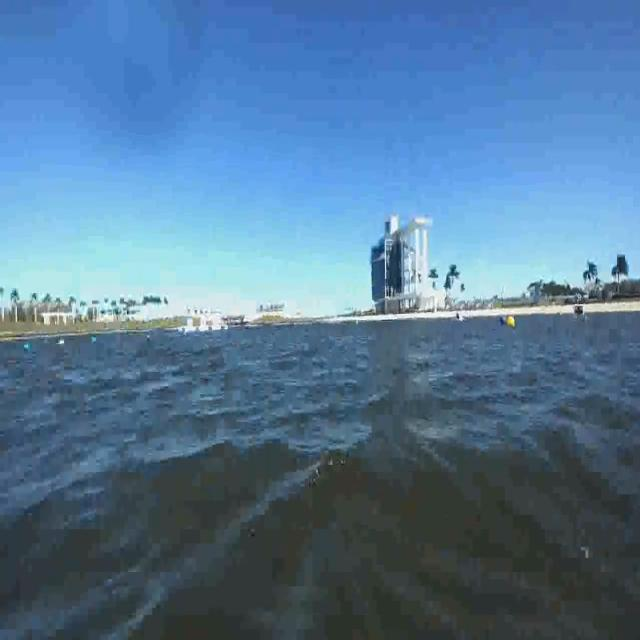yellow-buoy: (506, 315, 515, 329)
